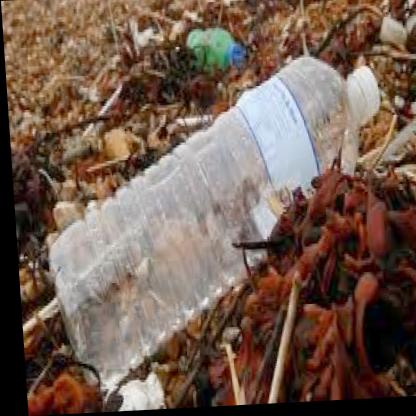Plastic: (27, 60, 404, 365)
